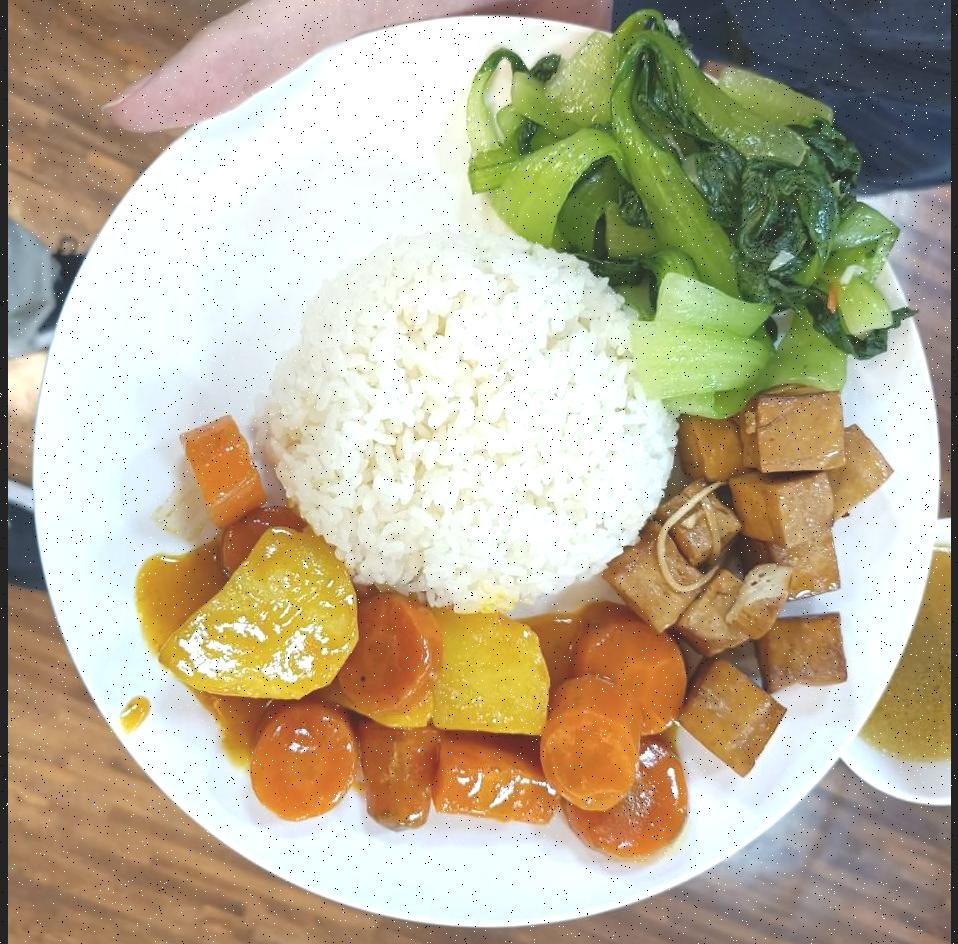big fried chicken leg: (38, 27, 930, 938)
big herbal chicken leg: (270, 229, 685, 614)
braised fish fillet: (157, 516, 686, 870), (501, 27, 909, 402), (619, 370, 900, 760)
